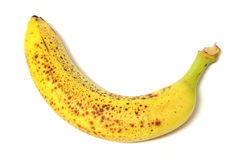looks_defective: (21, 11, 240, 154)
